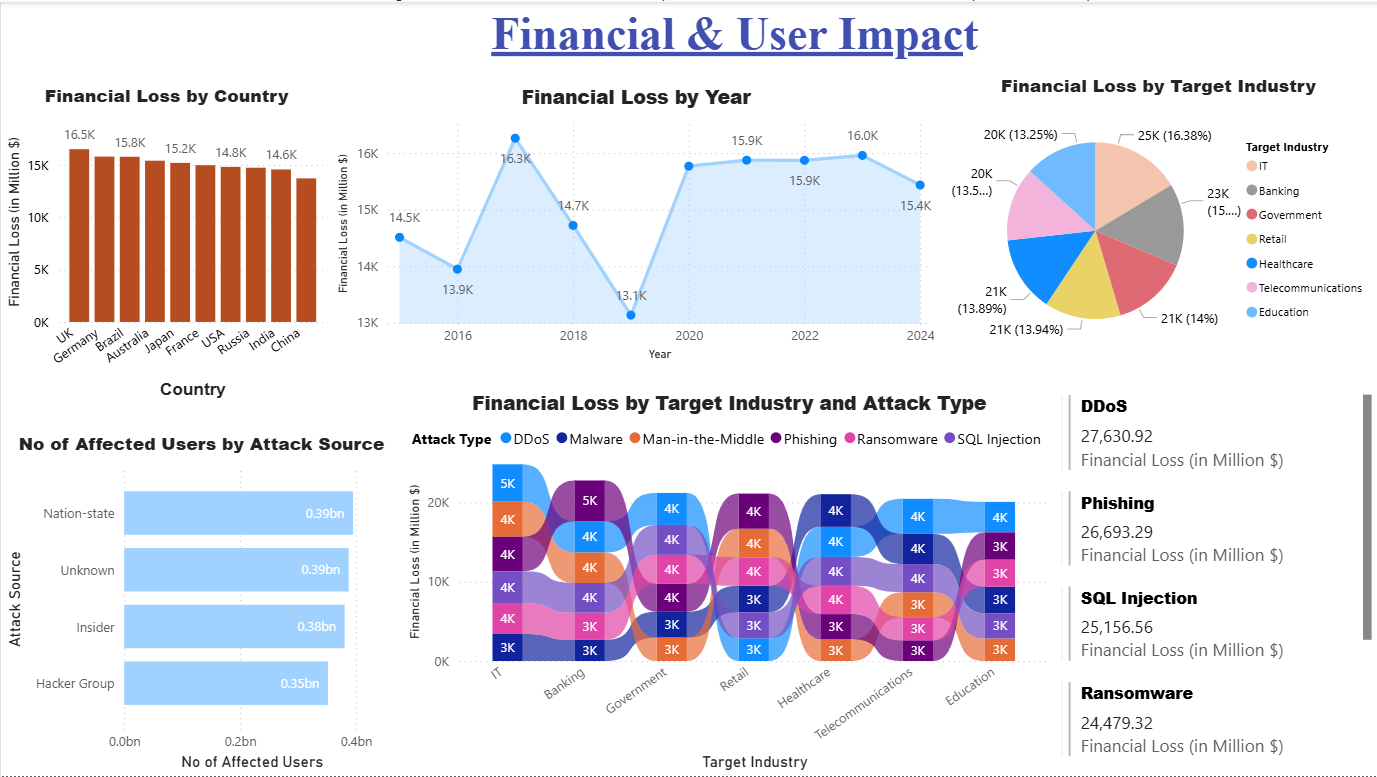

The page's visual inventory and layout, read from the dashboard file:
{"tool":"powerbi","page":{"name":"Financial Impact","canvas":[1280,720],"ordinal":1},"visuals":[{"type":"textbox","box":[397.7,0,569.8,66.3],"z":0},{"type":"columnChart","title":"Financial Loss  by Country","fields":{"Category":["Global_Cybersecurity_Threats_2015-2024.Country"],"Y":["Sum(Global_Cybersecurity_Threats_2015-2024.Financial Loss (in Million $))"]},"box":[0,75.6,308.1,298.8],"z":1000},{"type":"lineChart","title":"Financial Loss by Year","fields":{"Category":["Global_Cybersecurity_Threats_2015-2024.Year"],"Y":["Sum(Global_Cybersecurity_Threats_2015-2024.Financial Loss (in Million $))"]},"box":[308.1,75.6,565.1,262.8],"z":2000},{"type":"ribbonChart","title":"Financial Loss by Target Industry and Attack Type","fields":{"Category":["Global_Cybersecurity_Threats_2015-2024.Target Industry"],"Y":["Sum(Global_Cybersecurity_Threats_2015-2024.Financial Loss (in Million $))"],"Series":["Global_Cybersecurity_Threats_2015-2024.Attack Type"]},"box":[373.3,360.5,608.1,359.3],"z":3000},{"type":"pieChart","title":"Financial Loss by Target Industry","fields":{"Y":["Sum(Global_Cybersecurity_Threats_2015-2024.Financial Loss (in Million $))"],"Category":["Global_Cybersecurity_Threats_2015-2024.Target Industry"]},"box":[873.3,66.3,407,270.9],"z":4000},{"type":"multiRowCard","fields":{"Values":["Sum(Global_Cybersecurity_Threats_2015-2024.Financial Loss (in Million $))","Global_Cybersecurity_Threats_2015-2024.Attack Type"]},"box":[981.4,360.5,298.8,359.3],"z":5000},{"type":"clusteredBarChart","title":"No of Affected Users by Attack Source","fields":{"Category":["Global_Cybersecurity_Threats_2015-2024.Attack Source"],"Y":["Sum(Global_Cybersecurity_Threats_2015-2024.Number of Affected Users)"]},"box":[0,398.8,373.3,320.9],"z":6000}]}

Visuals, with their boxes in screenshot pixels (x1, y1, x2, y2), scaled from the page's 1280x720 canvas onto the 1377x777 screenshot:
textbox: BBox(428, 0, 1041, 72)
"Financial Loss  by Country" columnChart: BBox(0, 82, 331, 404)
"Financial Loss by Year" lineChart: BBox(331, 82, 939, 365)
"Financial Loss by Target Industry and Attack Type" ribbonChart: BBox(402, 389, 1056, 776)
"Financial Loss by Target Industry" pieChart: BBox(939, 72, 1376, 364)
multiRowCard - Sum(Global_Cybersecurity_Threats_2015-2024.Financial Loss (in Million $)) x Global_Cybersecurity_Threats_2015-2024.Attack Type: BBox(1056, 389, 1376, 776)
"No of Affected Users by Attack Source" clusteredBarChart: BBox(0, 430, 402, 776)
